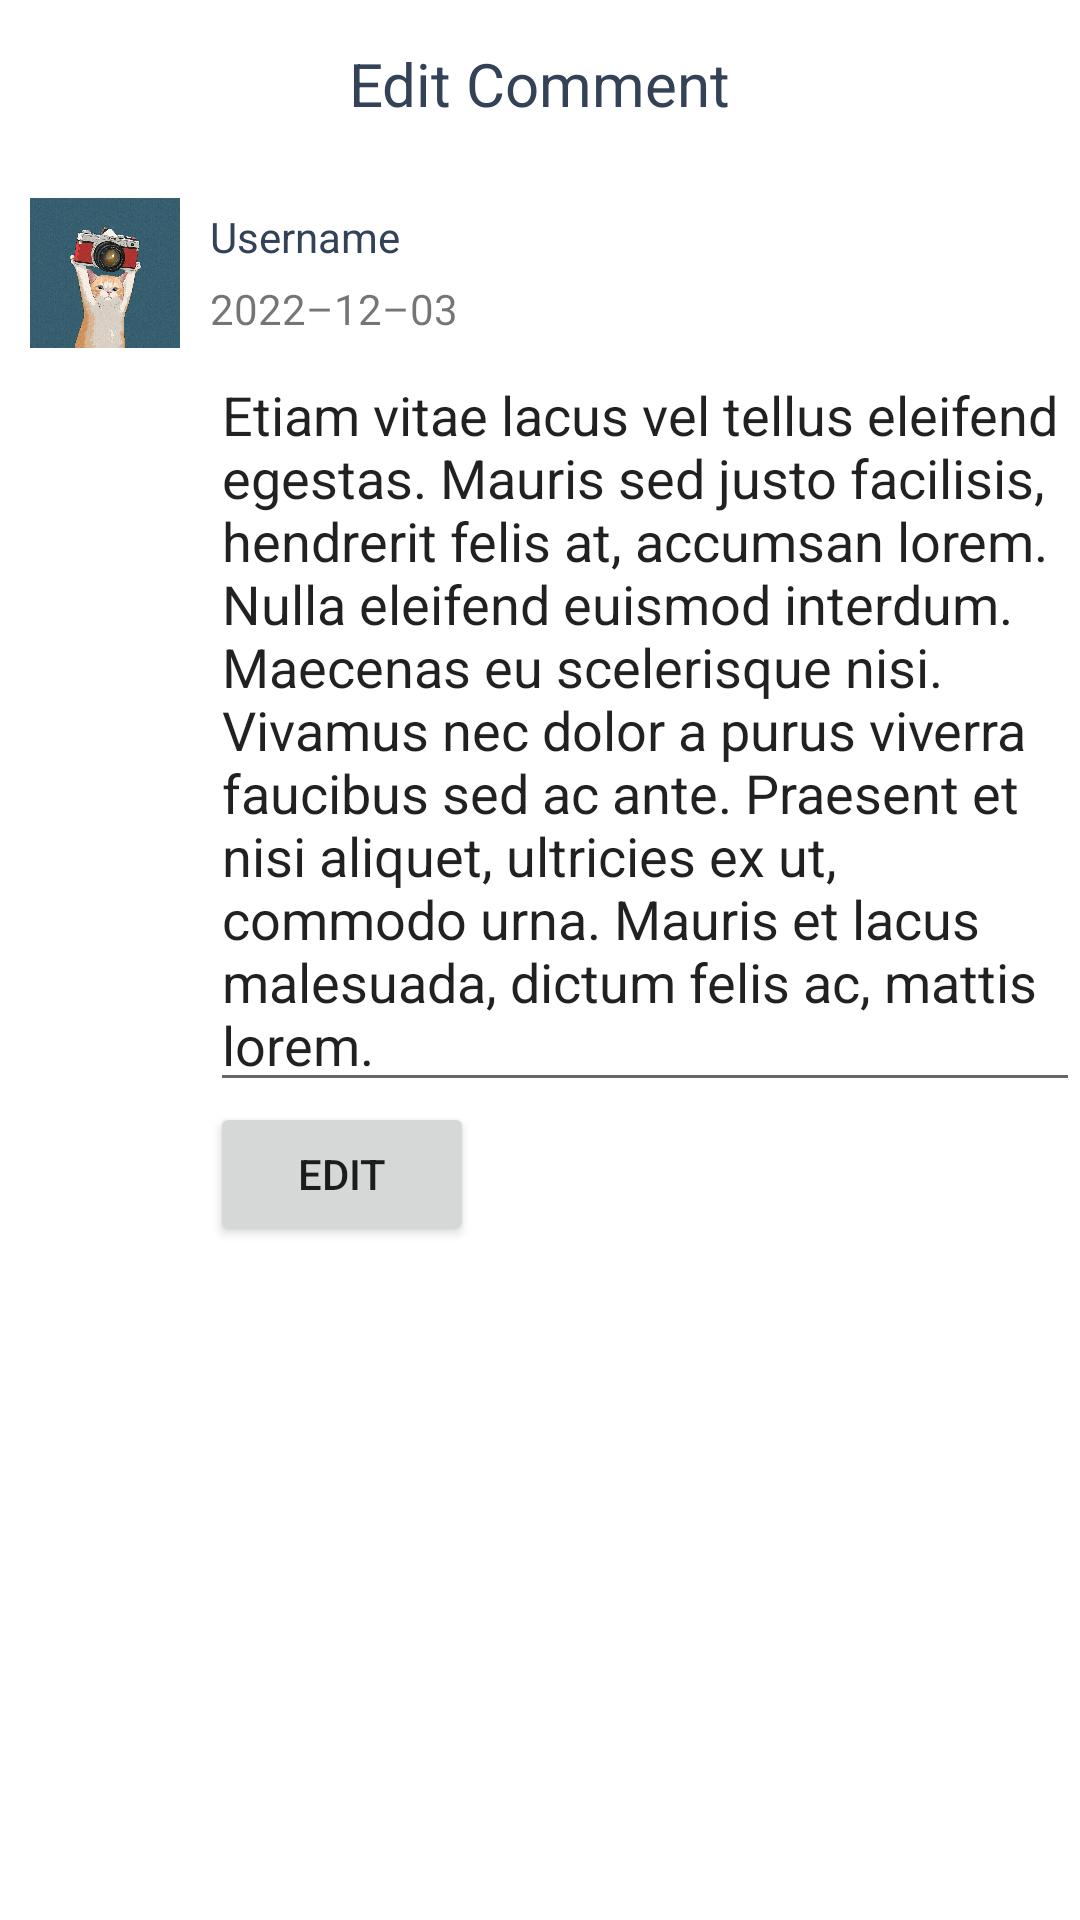

Named icons in this screenshot (1080 × 1920) and their centers, [x,y]:
cat user: [105,273]
